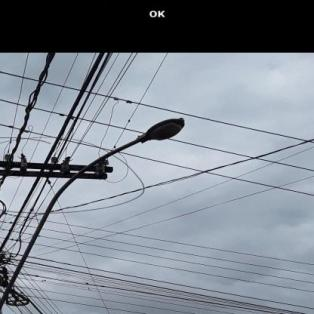Poste: (0, 130, 31, 314)
